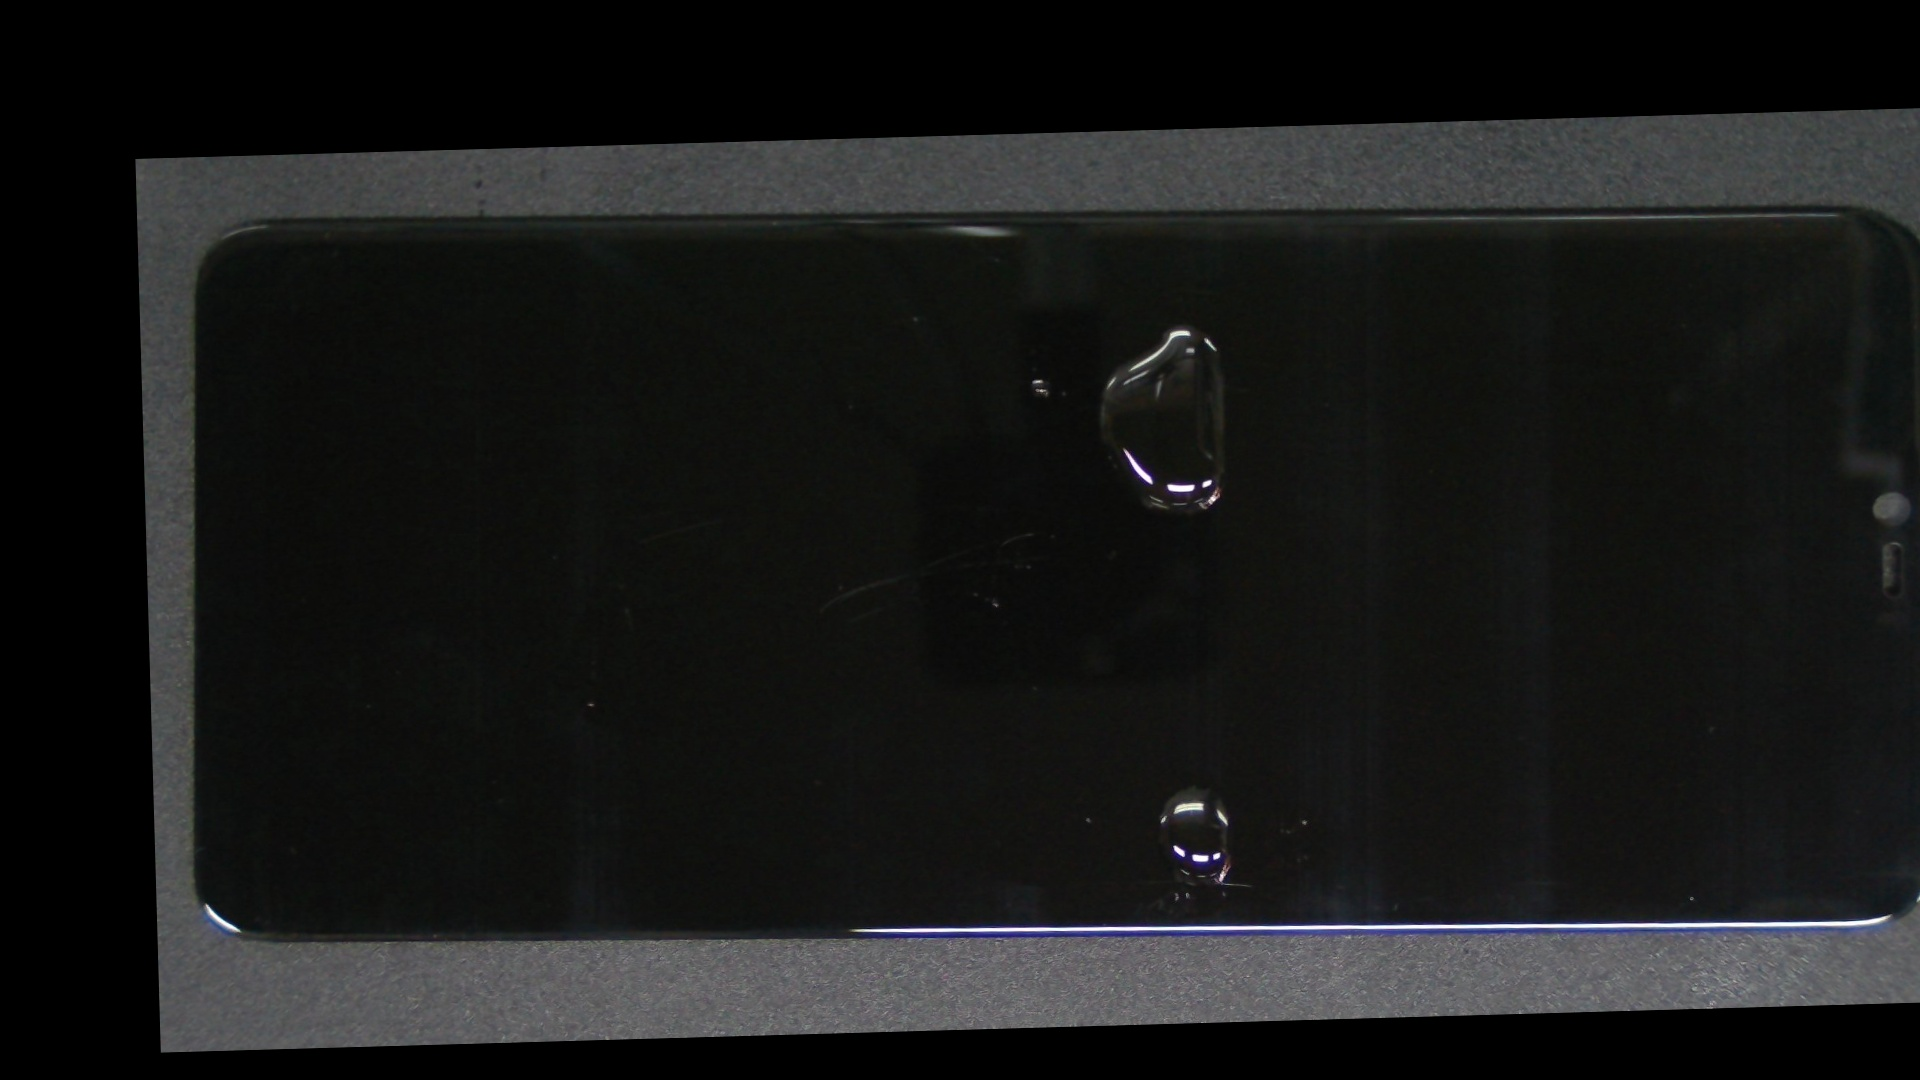oil: (666, 442, 1722, 1038), (589, 243, 1495, 514), (662, 211, 1713, 435)
